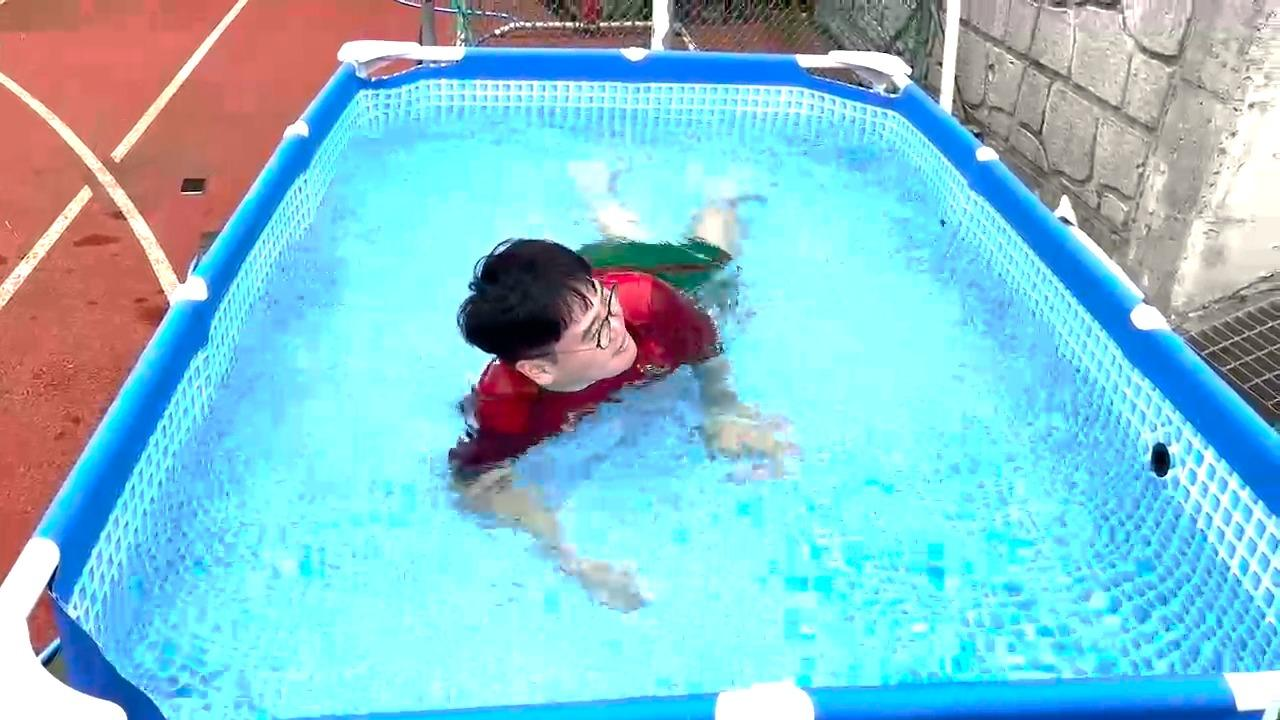Swimming: (382, 86, 851, 643)
